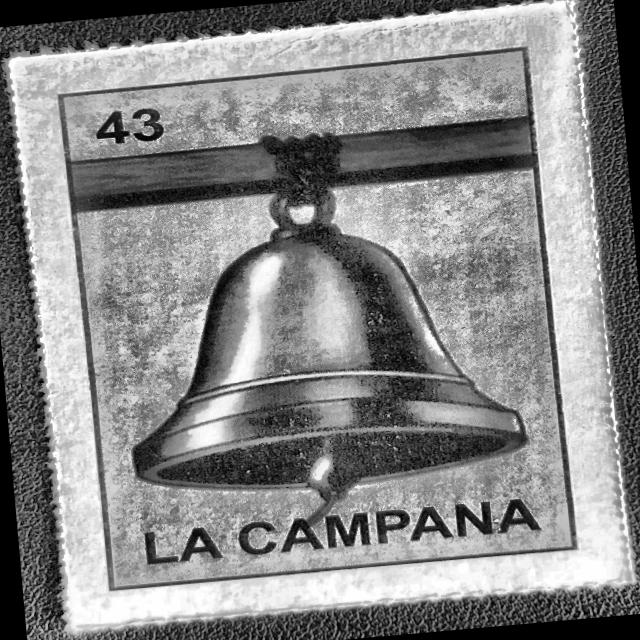La Campana: (24, 23, 596, 619)
